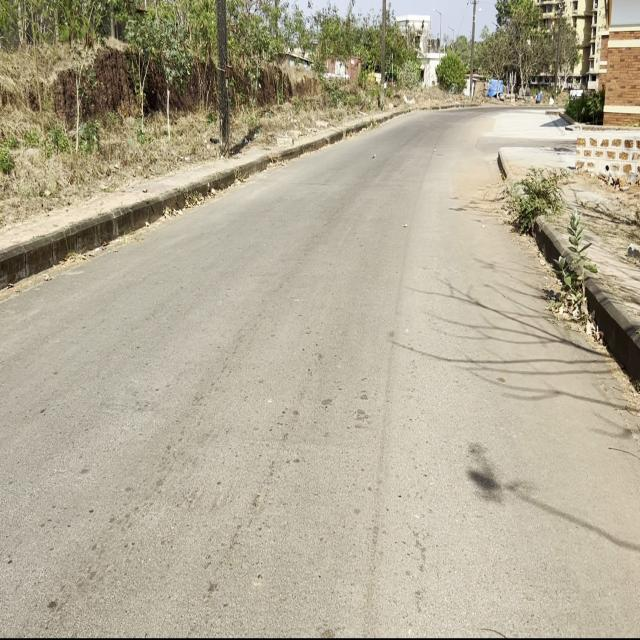Road: (1, 114, 640, 638)
